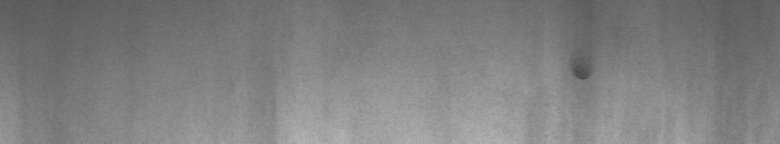fi: (569, 62, 593, 88)
